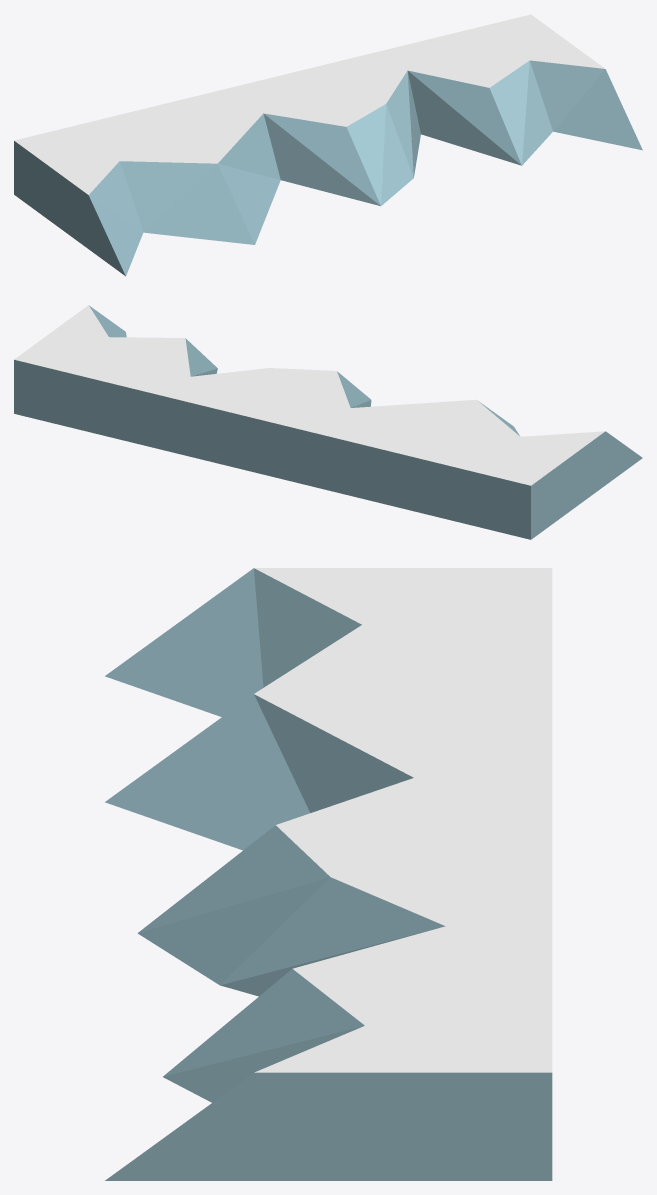
File: Terrain_Modular_Tiles_Snow_Ice_Cliff_Edge_Straight_Inner_02.fbx
3 views of the same model, one above another, from view 1: azimuth 30°, elevation 25°; view 2: azimuth 150°, elevation 25°; view 3: azimuth 270°, elevation 25° (orthographic). The views are drawn at different scales.
Visible parts, largest first — view 1: Terrain_Modular_Tiles_Snow_Ice_Cliff_Edge_Straight_Inner_02; view 2: Terrain_Modular_Tiles_Snow_Ice_Cliff_Edge_Straight_Inner_02; view 3: Terrain_Modular_Tiles_Snow_Ice_Cliff_Edge_Straight_Inner_02.
Boxes of the visible parts, x1,y1,x2,y2 form: Terrain_Modular_Tiles_Snow_Ice_Cliff_Edge_Straight_Inner_02: (14, 14, 642, 276); Terrain_Modular_Tiles_Snow_Ice_Cliff_Edge_Straight_Inner_02: (14, 305, 642, 539); Terrain_Modular_Tiles_Snow_Ice_Cliff_Edge_Straight_Inner_02: (105, 568, 552, 1180).
Size of the model in its own units: 3000 by 300 by 1125.
